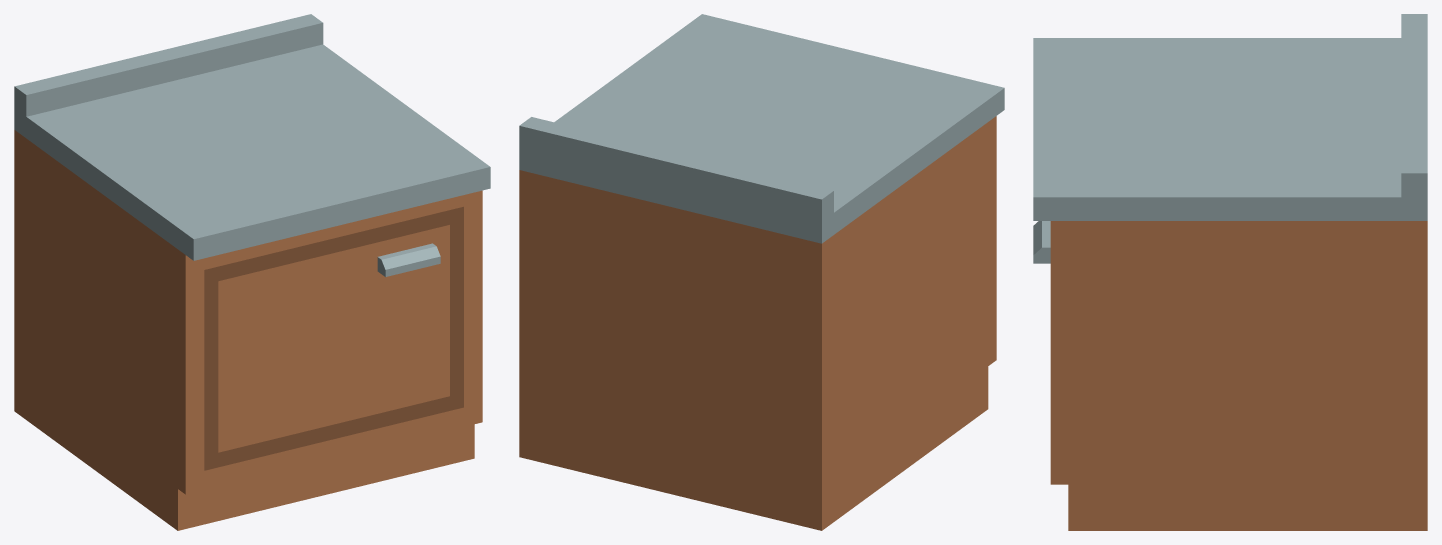
Rendered from furn_kitchenCabinet.glb.
The picture shows the model from 3 angles, left to right: view 1: azimuth 30°, elevation 25°; view 2: azimuth 150°, elevation 25°; view 3: azimuth 270°, elevation 25°; orthographic projection. The views are drawn at different scales.
Parts seen in each view (by area): view 1: kitchenCabinet(Clone), door; view 2: kitchenCabinet(Clone); view 3: kitchenCabinet(Clone), door.
Part boxes in pixels (bbox=[...]): kitchenCabinet(Clone): bbox=[14, 14, 490, 530]; door: bbox=[204, 206, 463, 470]; kitchenCabinet(Clone): bbox=[519, 14, 1004, 530]; kitchenCabinet(Clone): bbox=[1033, 14, 1427, 530]; door: bbox=[1033, 221, 1050, 263].
Bounding box in the file's own units: 0.43 × 0.45 × 0.45.
